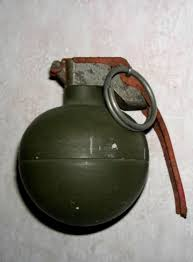bomb: (18, 55, 186, 232)
